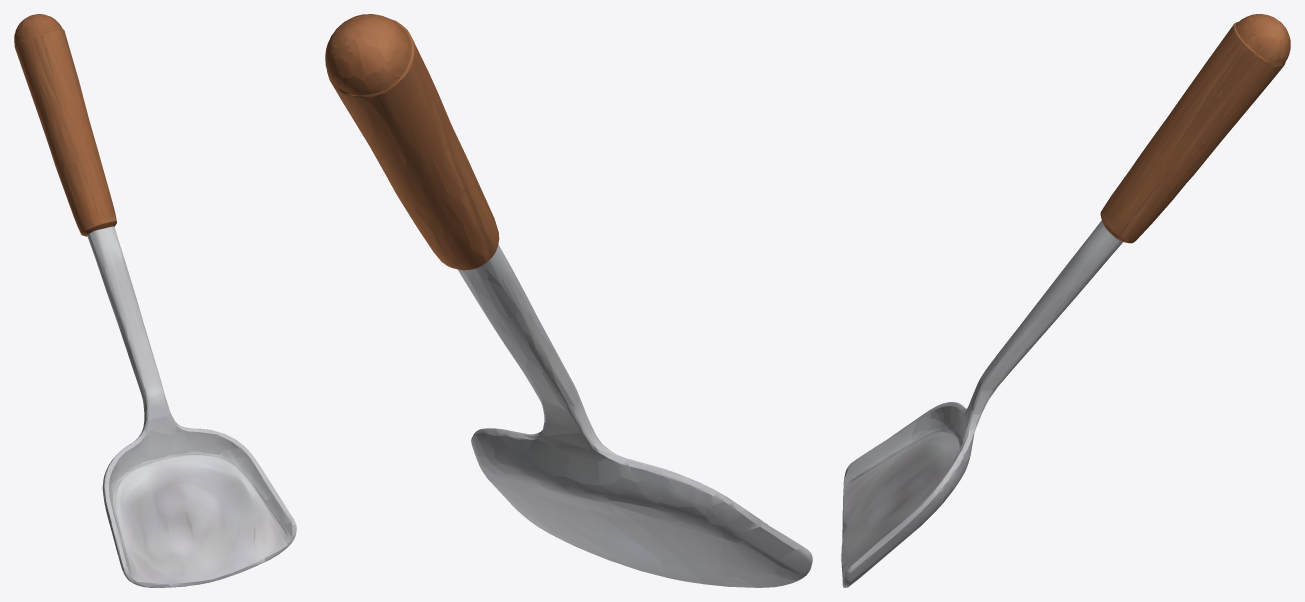
File: Spatula.fbx
3 renders of one model, left to right at view 1: azimuth 30°, elevation 25°; view 2: azimuth 150°, elevation 25°; view 3: azimuth 270°, elevation 25°, orthographic. The views are drawn at different scales.
Parts seen in each view (by area): view 1: output_unwrapped; view 2: output_unwrapped; view 3: output_unwrapped.
Part boxes in pixels (x1,y1,x2,y2): output_unwrapped: (14, 14, 296, 587); output_unwrapped: (325, 14, 812, 587); output_unwrapped: (841, 14, 1290, 587).
Size of the model in its own units: 78.37 by 190 by 143.
1 material, 1 textured.
